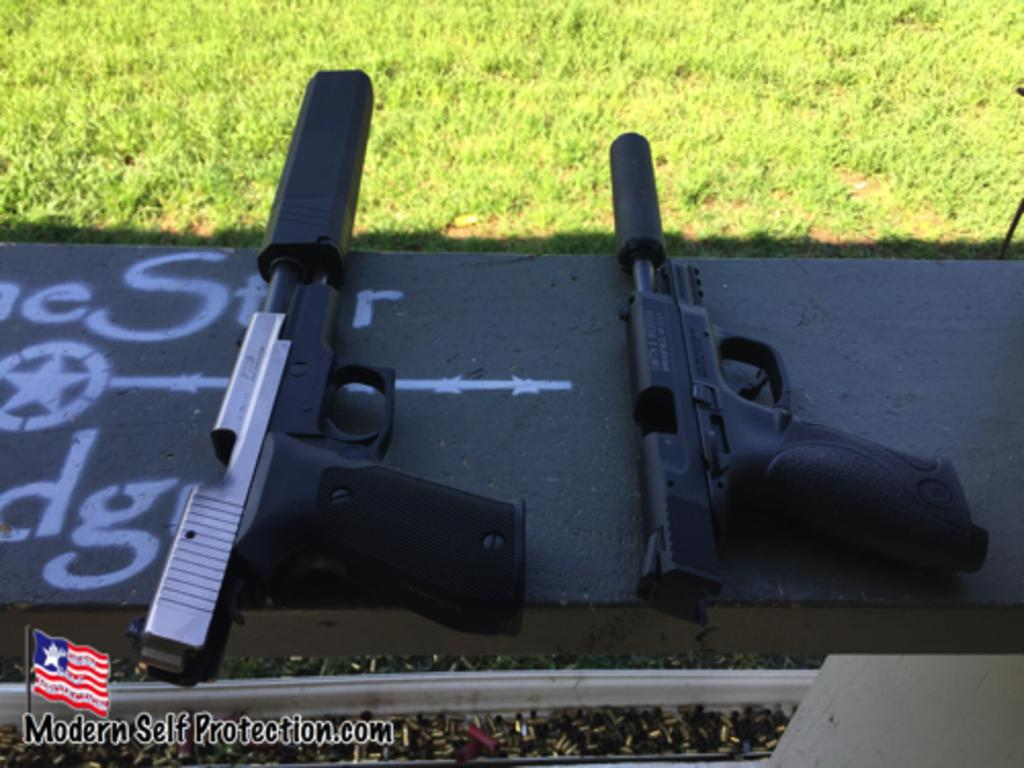Rifle: (137, 61, 526, 696), (602, 131, 989, 631)
